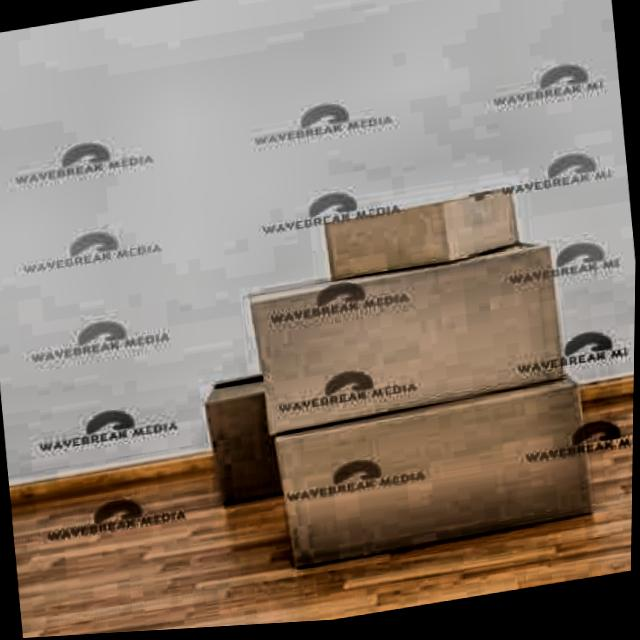Cardbox: (241, 185, 637, 609)
